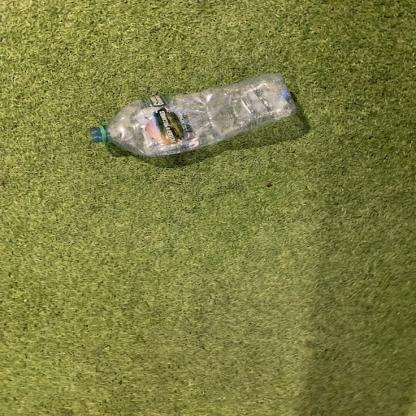trash: (85, 72, 303, 159)
